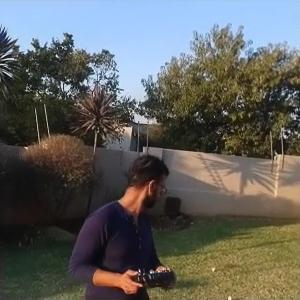follow: (63, 150, 178, 299)
